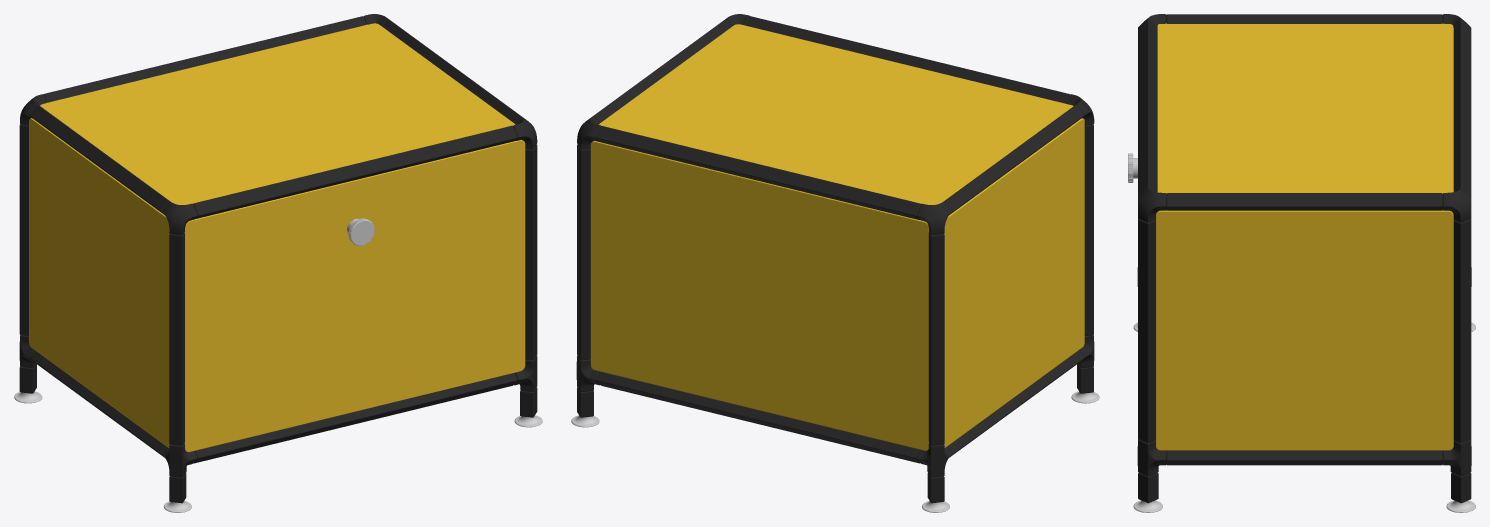
3 renders of one model, left to right at view 1: azimuth 30°, elevation 25°; view 2: azimuth 150°, elevation 25°; view 3: azimuth 270°, elevation 25°, orthographic. The views are drawn at different scales.
Visible parts, largest first — view 1: 523x374x329; view 2: 523x374x329; view 3: 523x374x329.
Part boxes in pixels (left/top/right/bottom): 523x374x329: left=14, top=14, right=542, bottom=512; 523x374x329: left=571, top=14, right=1099, bottom=512; 523x374x329: left=1128, top=14, right=1475, bottom=512.
Size of the model in its own units: 0.6129 by 0.4683 by 0.4707.
